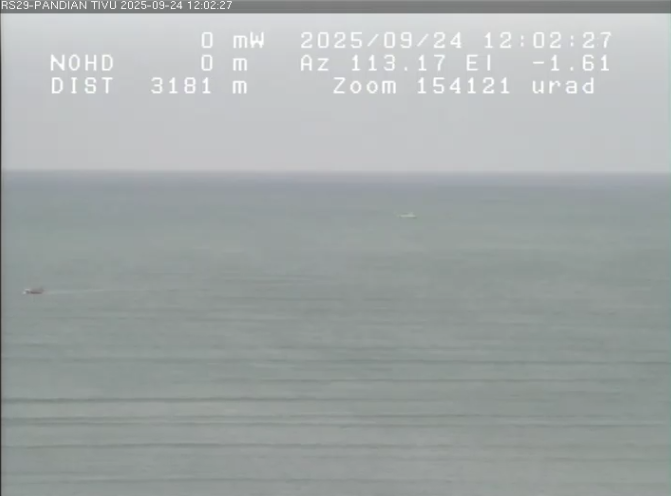FISHING_BOAT: (395, 202, 420, 226)
